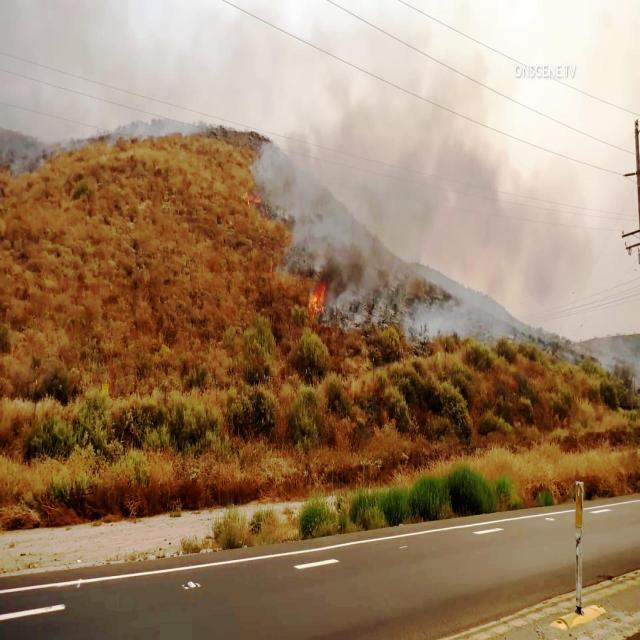Fire: (305, 286, 326, 326), (242, 187, 262, 214)
Smoke: (284, 98, 574, 268)
